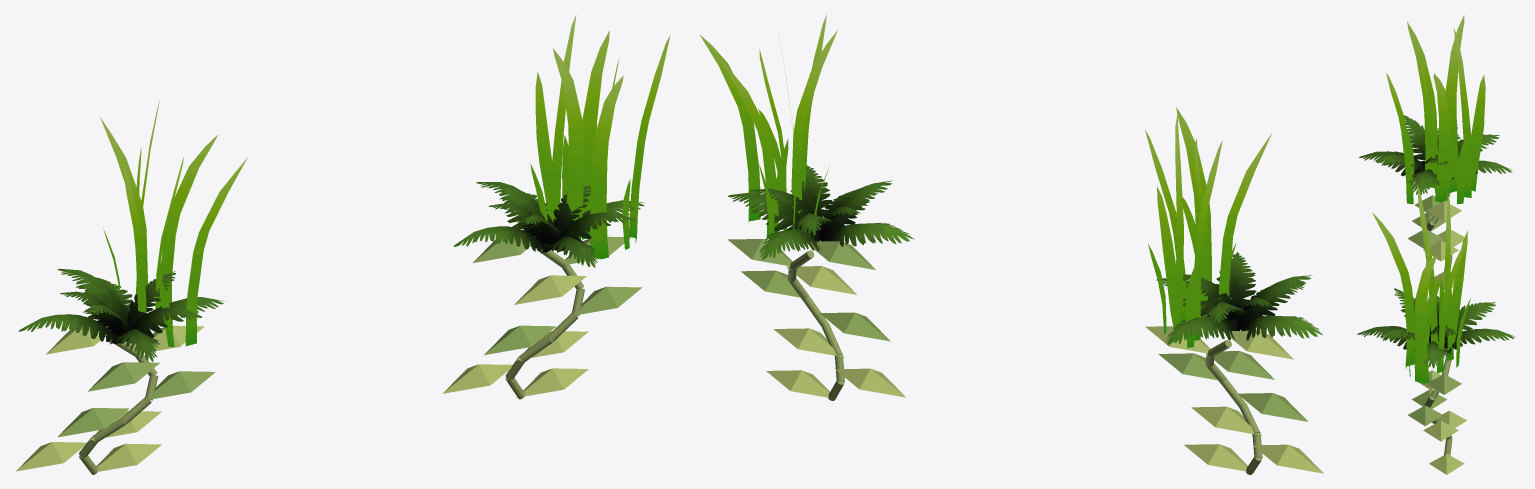
Rendered from Fallen_Log_Greenery.glb.
3 views of the same model, side by side, from view 1: azimuth 30°, elevation 25°; view 2: azimuth 150°, elevation 25°; view 3: azimuth 270°, elevation 25° (orthographic). The views are drawn at different scales.
Parts seen in each view (by area): view 1: Patch_001, Patch_000; view 2: Patch_000, Patch_001; view 3: Patch_000, Patch_001.
Boxes of the visible parts, bbox=[...] form: Patch_001: bbox=[442, 15, 670, 399]; Patch_000: bbox=[16, 101, 247, 474]; Patch_000: bbox=[1145, 107, 1323, 474]; Patch_001: bbox=[699, 15, 914, 400]; Patch_000: bbox=[1359, 15, 1512, 289]; Patch_001: bbox=[1357, 184, 1515, 474].
Bounding box in the file's own units: 2.13 × 1.2 × 0.6085.
5 materials, 2 textured.
